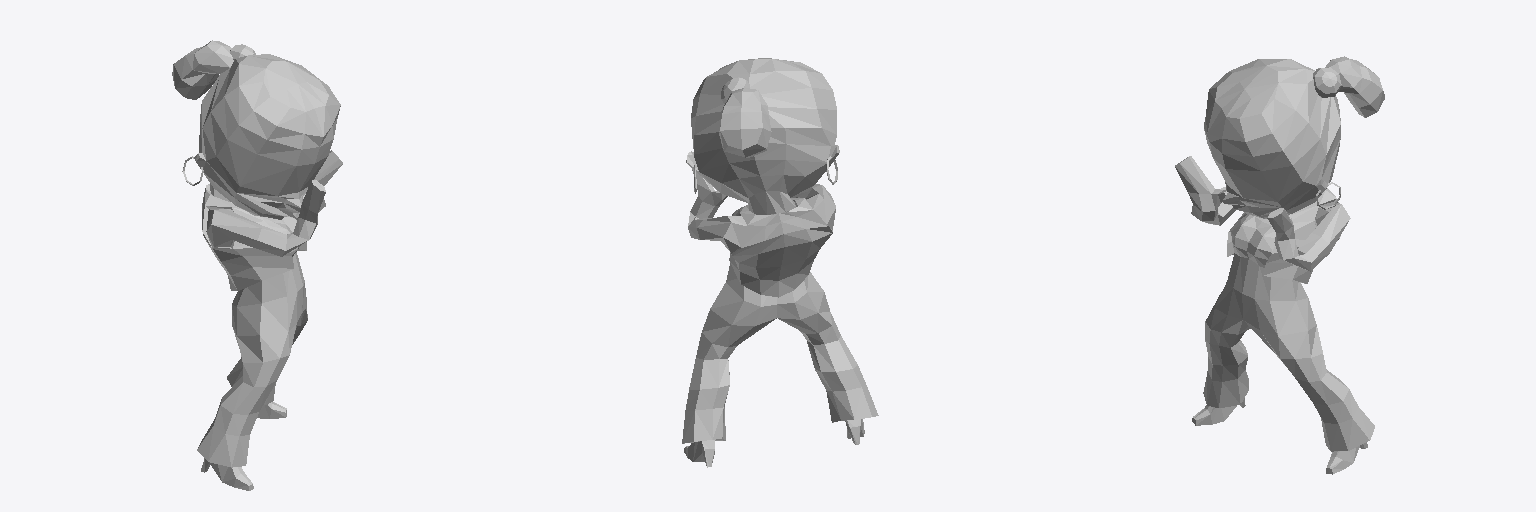
File: bailarina_000099.obj
3 views of the same model, side by side, from view 1: azimuth 30°, elevation 25°; view 2: azimuth 150°, elevation 25°; view 3: azimuth 270°, elevation 25° (orthographic).
Visible parts, largest first — view 1: bAilarina:Mesh; view 2: bAilarina:Mesh; view 3: bAilarina:Mesh.
Boxes of the visible parts, x1,y1,x2,y2 form: bAilarina:Mesh: [172, 40, 342, 490]; bAilarina:Mesh: [682, 58, 878, 467]; bAilarina:Mesh: [1175, 56, 1384, 474].
Size of the model in its own units: 7.33 by 16.49 by 8.19.